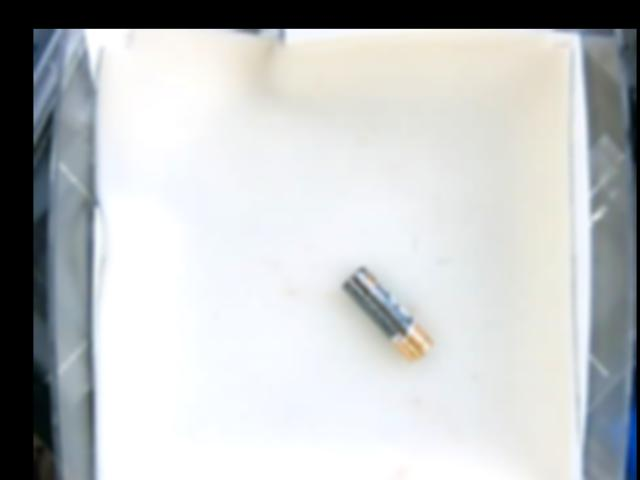Battery: (343, 266, 436, 360)
